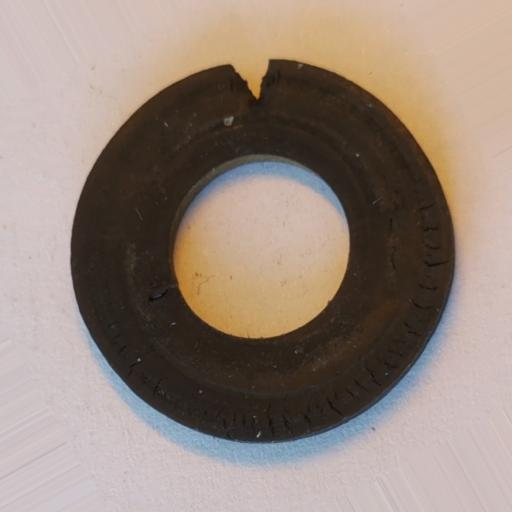defect: (228, 56, 272, 104)
